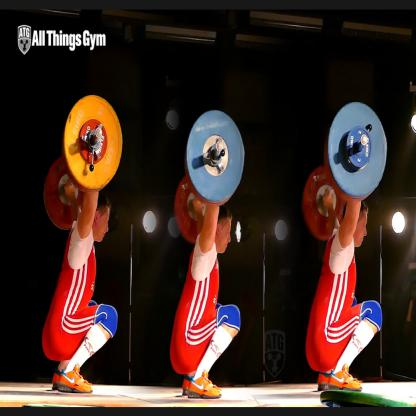Barbell: (179, 104, 257, 208), (60, 87, 131, 200), (323, 97, 395, 204)
